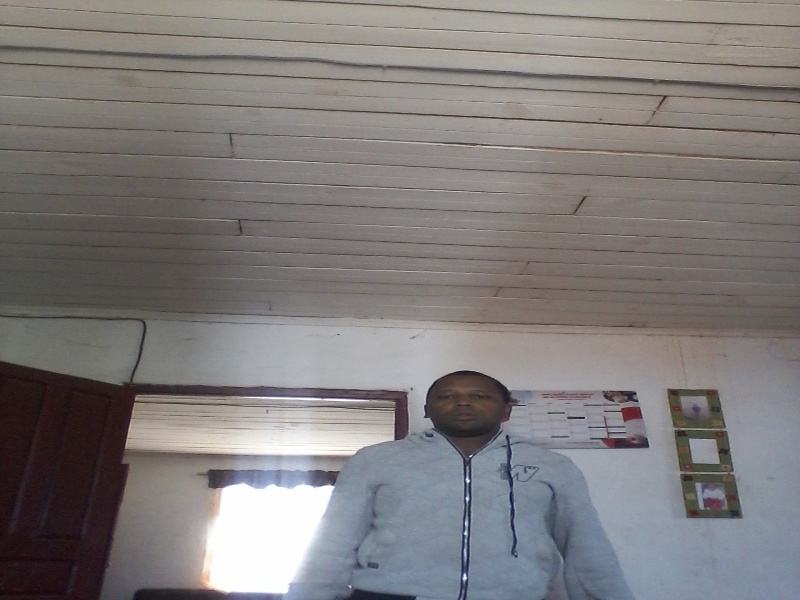TsisyArotava: (420, 364, 518, 462)
